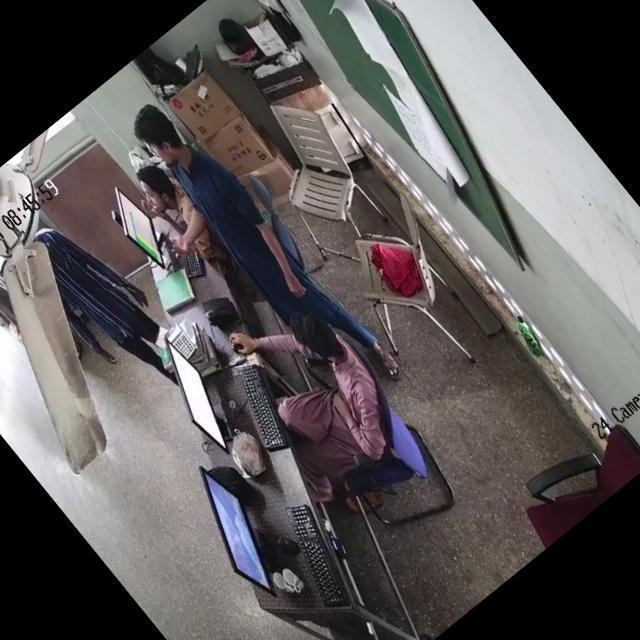person: (130, 84, 398, 394), (250, 306, 426, 492), (20, 204, 174, 376), (128, 154, 224, 259)
